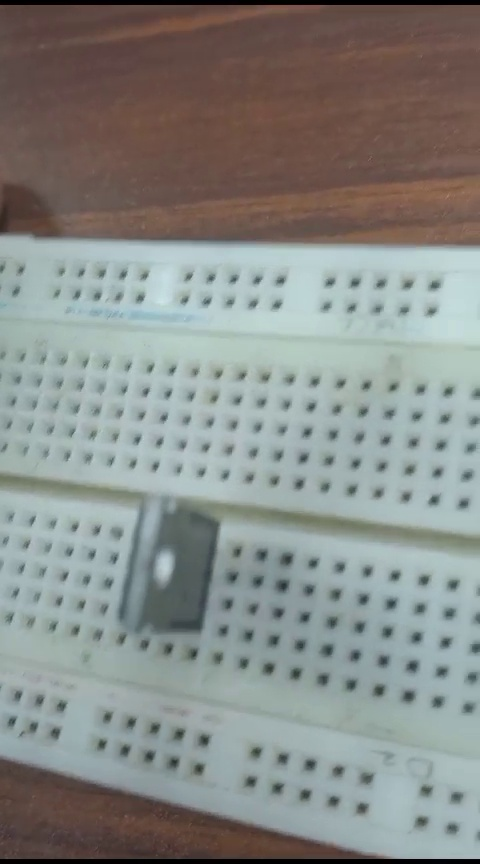voltage regulator: (124, 488, 222, 645)
